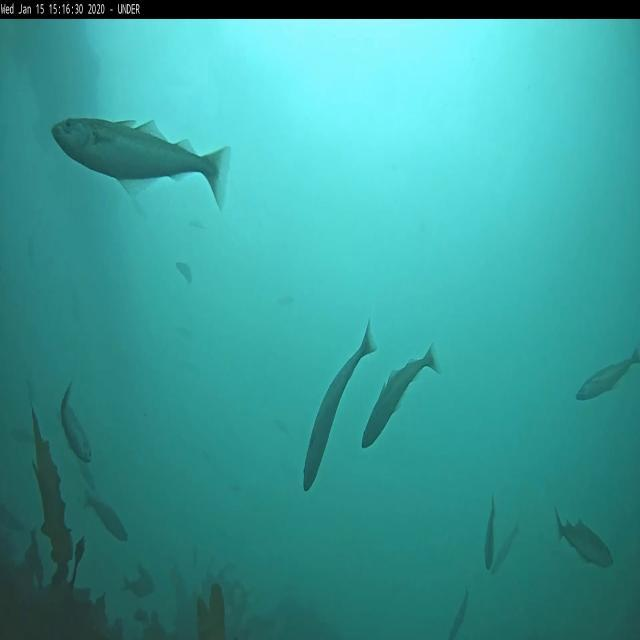fish: (53, 116, 229, 212), (303, 319, 380, 495), (360, 345, 442, 451), (555, 502, 614, 566), (576, 350, 638, 400), (60, 381, 94, 464), (86, 491, 128, 542), (491, 522, 518, 577), (448, 590, 469, 640), (484, 496, 497, 572), (124, 574, 156, 599), (76, 458, 96, 492), (174, 262, 194, 280)
